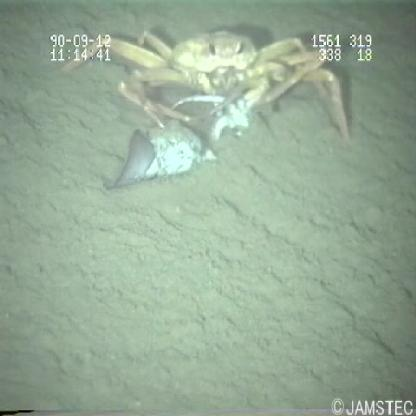Bio: (53, 23, 355, 200)
